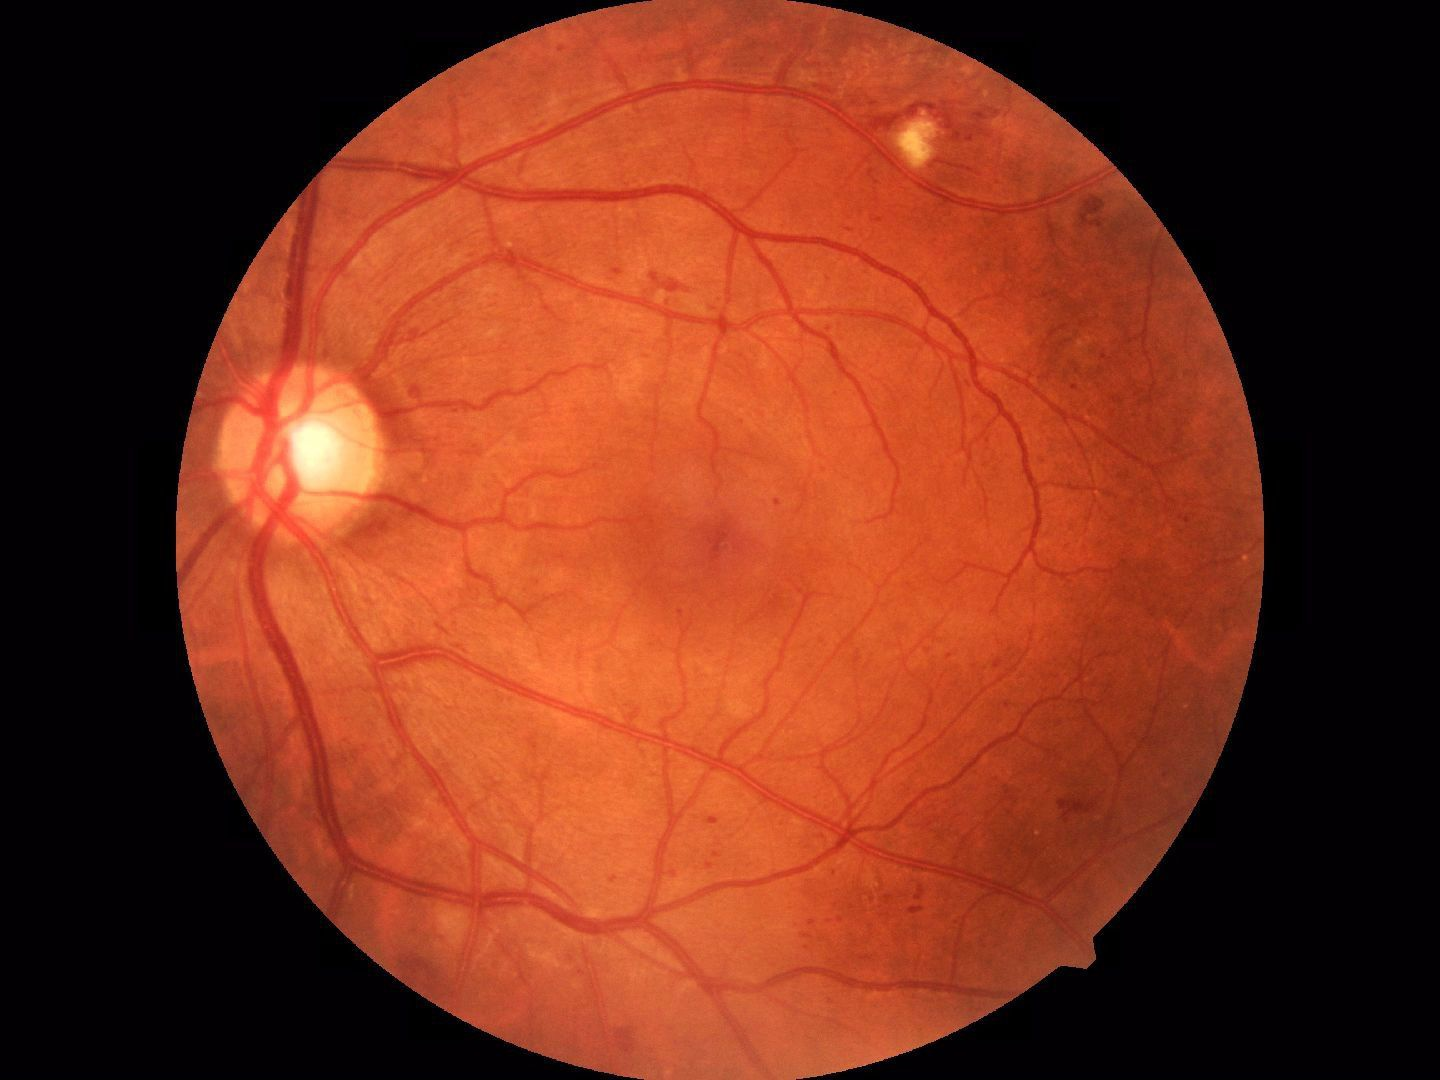Arterioles: (695, 689, 1023, 954)
Exudates: (884, 104, 948, 167)
Hemorrhages: (616, 444, 814, 624)
Microaneurysms: (1053, 776, 1108, 832), (649, 261, 701, 306)
Optic-Disc: (207, 349, 395, 545)
Venules: (235, 566, 451, 839), (836, 303, 1089, 529), (282, 182, 446, 332)
